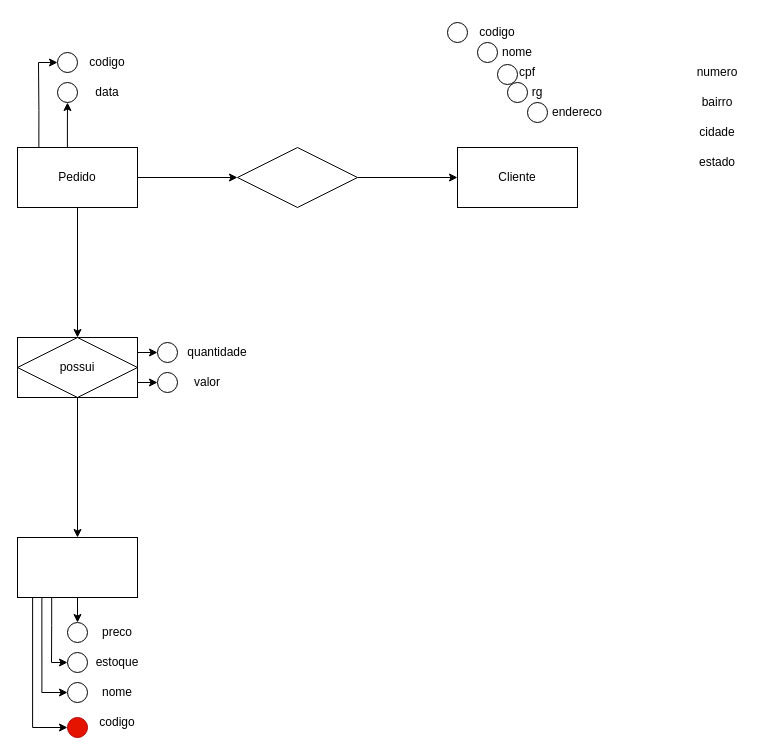
This 765x755 diagram has some shape labels left out. Here are the shapes that lost their labels. From the top down, the centre of each, then its label:
At pixel 297 177: "pertence".
At pixel 77 567: "Produto".
